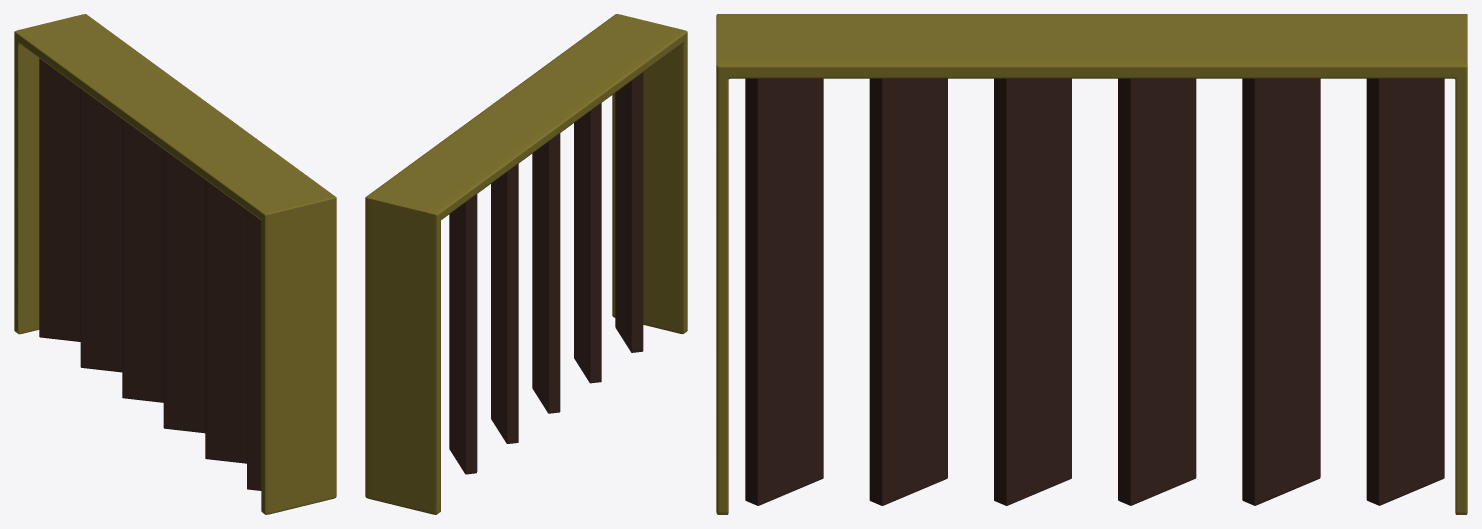
The model's file is CourtyardVent.fbx.
The picture shows the model from 3 angles, left to right: view 1: azimuth 30°, elevation 25°; view 2: azimuth 150°, elevation 25°; view 3: azimuth 270°, elevation 25°; orthographic projection. The views are drawn at different scales.
Visible parts, largest first — view 1: CourtyardVentFrame_High, CourtyardFin4_High, CourtyardFin2_High, CourtyardFin5_High, CourtyardFin3_High, CourtyardFin1_High, CourtyardFin6_High; view 2: CourtyardVentFrame_High, CourtyardFin4_High, CourtyardFin2_High, CourtyardFin6_High, CourtyardFin5_High, CourtyardFin3_High; view 3: CourtyardVentFrame_High, CourtyardFin5_High, CourtyardFin6_High, CourtyardFin1_High, CourtyardFin2_High, CourtyardFin3_High, CourtyardFin4_High.
Part boxes in pixels (x1,y1,x2,y2): CourtyardVentFrame_High: (14,14,336,514); CourtyardFin4_High: (163,149,205,433); CourtyardFin2_High: (80,89,122,372); CourtyardFin5_High: (205,180,246,463); CourtyardFin3_High: (122,119,163,402); CourtyardFin1_High: (39,58,80,341); CourtyardFin6_High: (247,210,261,490); CourtyardVentFrame_High: (365,14,687,514); CourtyardFin4_High: (532,133,560,413); CourtyardFin2_High: (449,194,477,474); CourtyardFin6_High: (615,72,643,352); CourtyardFin5_High: (574,103,601,383); CourtyardFin3_High: (491,164,518,443); CourtyardVentFrame_High: (716,14,1467,514); CourtyardFin5_High: (869,78,947,505); CourtyardFin6_High: (745,78,823,505); CourtyardFin1_High: (1366,78,1444,505); CourtyardFin2_High: (1242,78,1320,505); CourtyardFin3_High: (1118,78,1196,505); CourtyardFin4_High: (994,78,1071,505).
Bounding box in the file's own units: 2 × 8 × 12.1.
